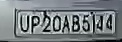0: (53, 15, 62, 33)
1: (90, 13, 97, 35)
2: (42, 15, 52, 34)
4: (97, 14, 106, 33), (105, 13, 113, 33)
5: (82, 13, 90, 33)
A: (61, 15, 72, 34)
B: (71, 14, 82, 34)
P: (30, 14, 41, 33)
U: (19, 13, 30, 34)
